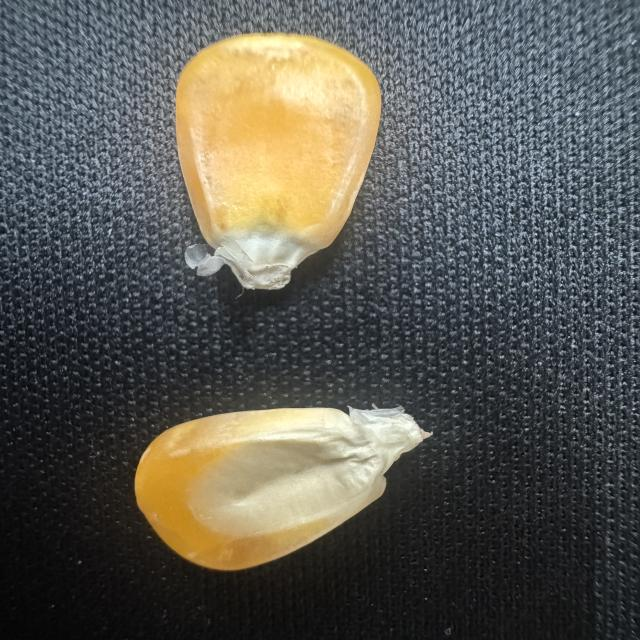Good-Seed: (166, 28, 386, 302), (132, 389, 434, 577)
